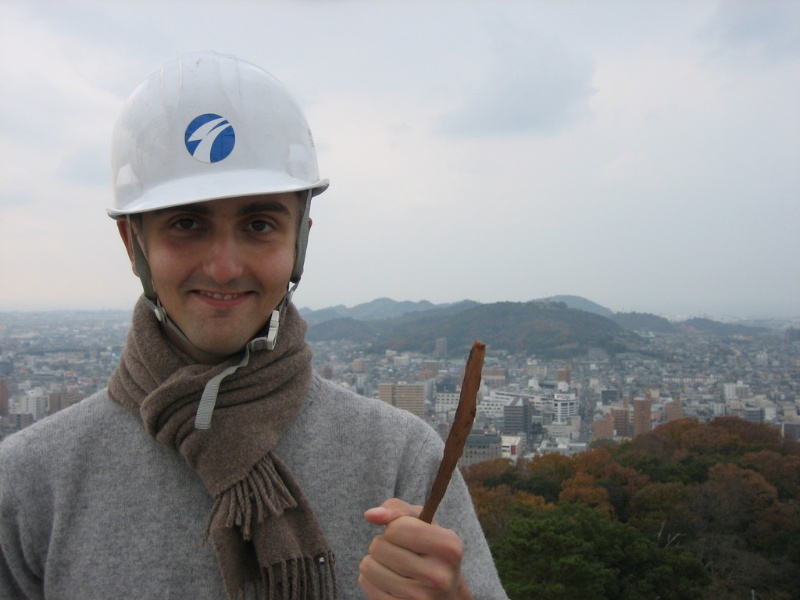Baret: (102, 50, 331, 216)
